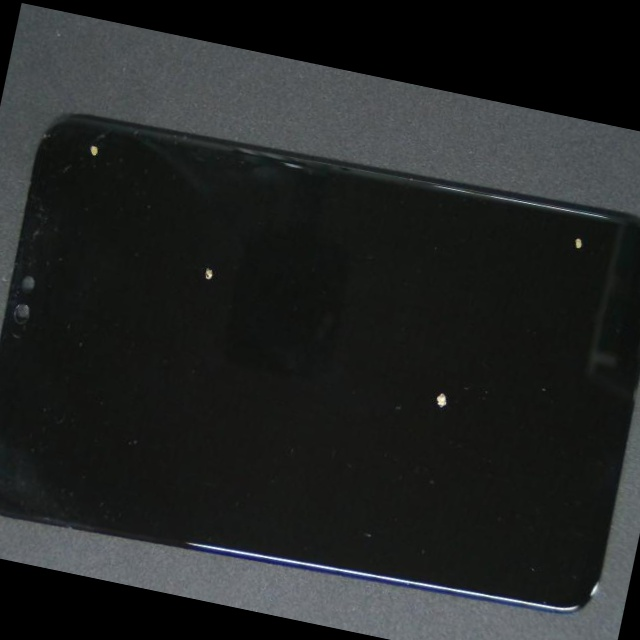stain: (202, 240, 640, 594), (271, 105, 640, 321), (107, 151, 370, 394), (50, 123, 178, 250)
